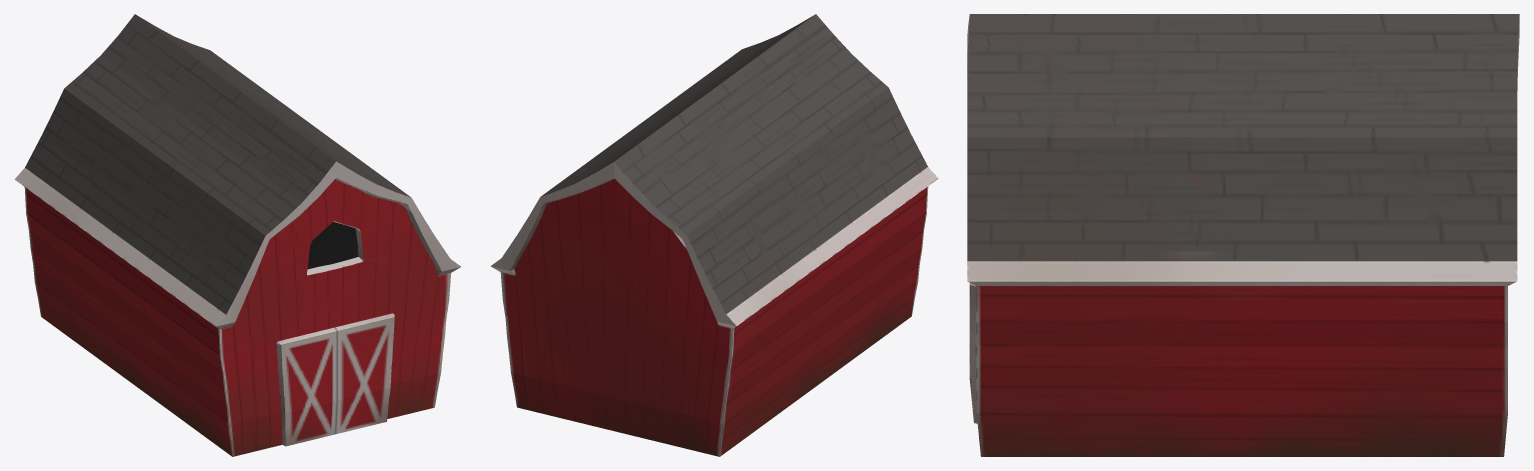
File: barn.obj
3 renders of one model, left to right at view 1: azimuth 30°, elevation 25°; view 2: azimuth 150°, elevation 25°; view 3: azimuth 270°, elevation 25°, orthographic. The views are drawn at different scales.
Visible parts, largest first — view 1: Cube_Cube.002; view 2: Cube_Cube.002; view 3: Cube_Cube.002.
Boxes of the visible parts, x1,y1,x2,y2 form: Cube_Cube.002: (14,14,460,456); Cube_Cube.002: (490,14,938,456); Cube_Cube.002: (967,14,1519,456).
Size of the model in its own units: 7.29 by 7.77 by 10.38.
